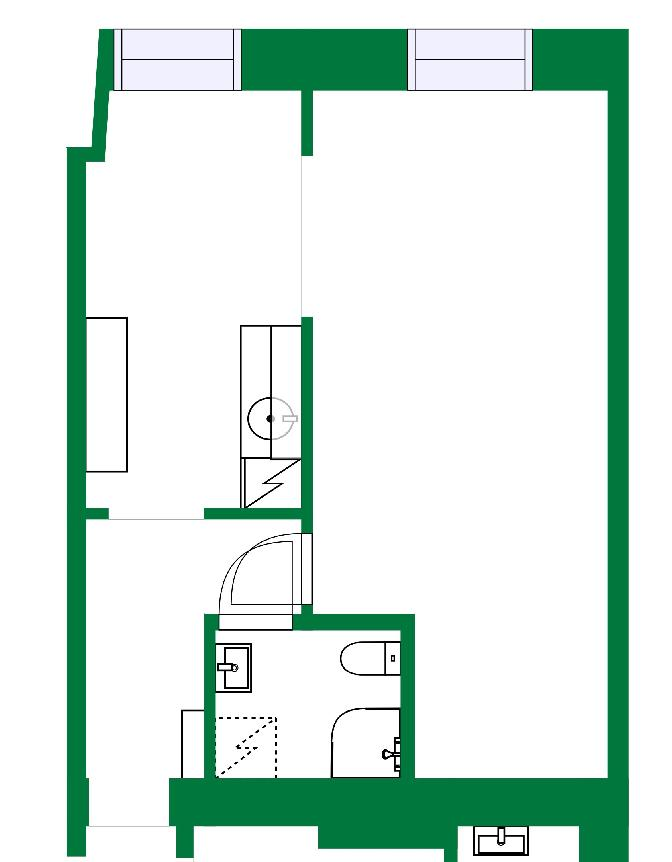door: (219, 524, 293, 646), (228, 530, 312, 601)
window: (108, 28, 240, 90), (403, 26, 532, 86)
zone: (80, 92, 612, 799), (208, 621, 399, 775)
